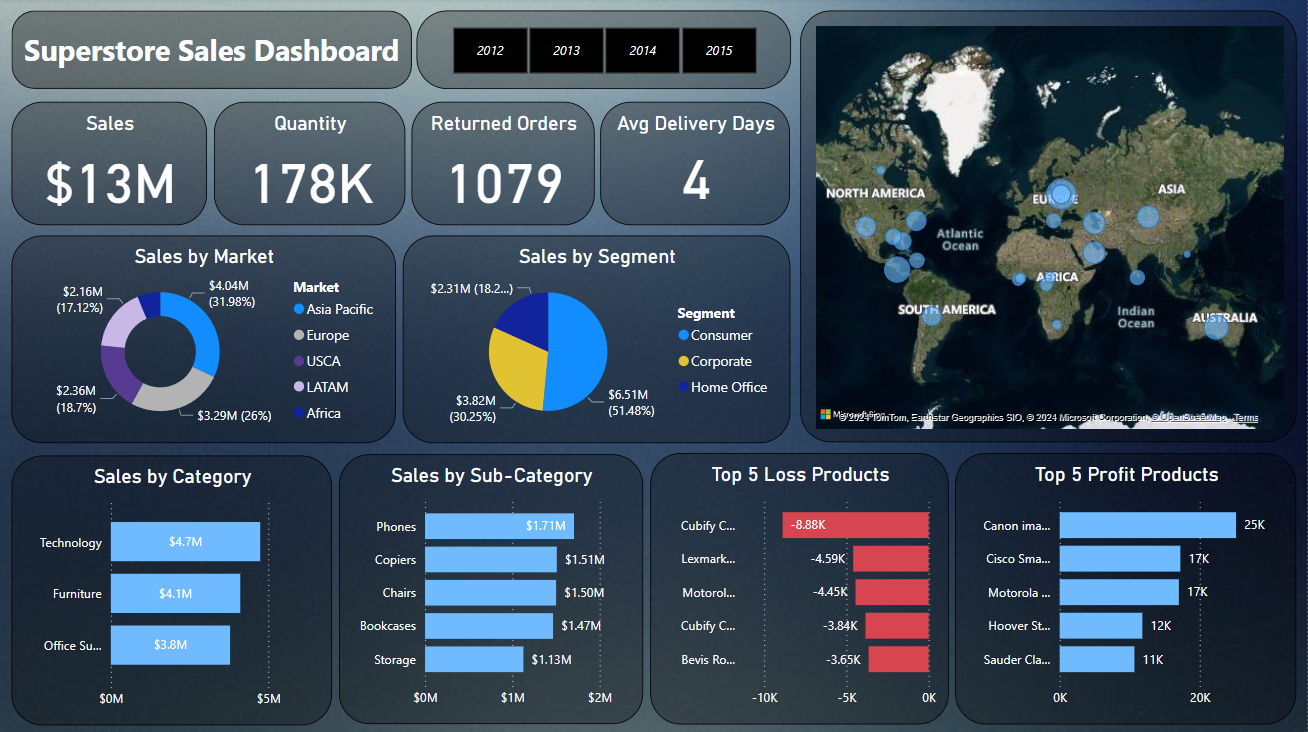

The page's visual inventory and layout, read from the dashboard file:
{"tool":"powerbi","page":{"name":"Page 1","canvas":[1280,720],"ordinal":0},"visuals":[{"type":"card","title":"Sales","fields":{"Values":["Sum(Orders.Sales)"]},"box":[12.1,101,191.2,121.2],"z":0},{"type":"card","title":"Avg Delivery Days","fields":{"Values":["Avg(Orders.Delivery Days)"]},"box":[588.3,101,185.8,121.2],"z":1000},{"type":"card","title":"Quantity","fields":{"Values":["Sum(Orders.Quantity)"]},"box":[210,101,187.1,121.2],"z":2000},{"type":"slicer","fields":{"Values":["Orders.Mfg Year"]},"box":[407.9,12.1,366.2,76.7],"z":3000},{"type":"card","title":"Returned Orders","fields":{"Values":["Sum(Returns.Returns)"]},"box":[403.9,101,179,121.2],"z":4000},{"type":"clusteredBarChart","title":"Top 5 Profit Products","fields":{"Y":["Sum(Orders.Profit)"],"Category":["Orders.Product Name"]},"box":[935.6,445.3,333.9,265.2],"z":5000},{"type":"clusteredBarChart","title":"Sales by Sub-Category","fields":{"Category":["Orders.Sub-Category"],"Y":["Sum(Orders.Sales)"]},"box":[332.5,446.6,297.5,263.9],"z":6000},{"type":"pieChart","title":"Sales by Segment","fields":{"Category":["Orders.Segment"],"Y":["Sum(Orders.Sales)"]},"box":[394.4,231.9,379.1,203.3],"z":7000},{"type":"donutChart","title":"Sales by Market","fields":{"Y":["Sum(Orders.Sales)"],"Category":["Orders.Market"]},"box":[12.1,231.9,375.6,203.3],"z":8000},{"type":"barChart","title":"Sales by Category","fields":{"Category":["Orders.Category"],"Y":["Sum(Orders.Sales)"]},"box":[12.1,447,313.7,263.9],"z":9000},{"type":"clusteredBarChart","title":"Top 5 Loss Products","fields":{"Y":["Sum(Orders.Profit)"],"Category":["Orders.Product Name"]},"box":[636.8,445.3,292.1,265.2],"z":10000},{"type":"shape","box":[12.1,12.1,391.8,76.7],"z":11000},{"type":"map","fields":{"Category":["Orders.Region"],"Size":["Sum(Orders.Sales)"]},"box":[783.5,12.1,486,422.7],"z":12000}]}

Visuals, with their boxes in screenshot pixels (x1, y1, x2, y2), scaled from the page's 1280x720 canvas onto the 1308x732 screenshot:
"Sales" card: x1=12 y1=103 x2=208 y2=226
"Avg Delivery Days" card: x1=601 y1=103 x2=791 y2=226
"Quantity" card: x1=215 y1=103 x2=406 y2=226
slicer - Orders.Mfg Year: x1=417 y1=12 x2=791 y2=90
"Returned Orders" card: x1=413 y1=103 x2=596 y2=226
"Top 5 Profit Products" clusteredBarChart: x1=956 y1=453 x2=1297 y2=722
"Sales by Sub-Category" clusteredBarChart: x1=340 y1=454 x2=644 y2=722
"Sales by Segment" pieChart: x1=403 y1=236 x2=790 y2=442
"Sales by Market" donutChart: x1=12 y1=236 x2=396 y2=442
"Sales by Category" barChart: x1=12 y1=454 x2=333 y2=723
"Top 5 Loss Products" clusteredBarChart: x1=651 y1=453 x2=949 y2=722
shape: x1=12 y1=12 x2=413 y2=90
map - Orders.Region x Sum(Orders.Sales): x1=801 y1=12 x2=1297 y2=442
